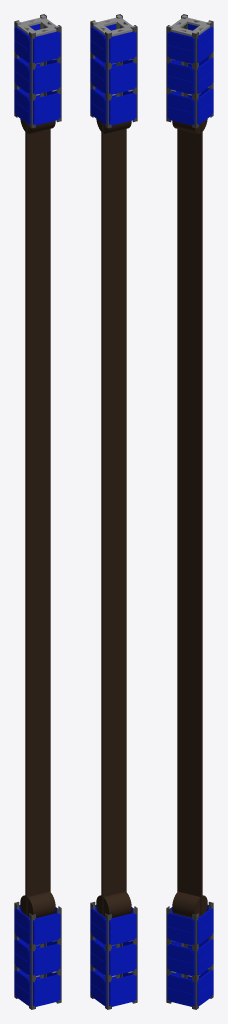
Rendered from saildummyv2.glb.
The picture shows the model from 3 angles, left to right: view 1: azimuth 30°, elevation 25°; view 2: azimuth 210°, elevation 25°; view 3: azimuth 330°, elevation 25°; orthographic projection.
Parts seen in each view (by area): view 1: Cylinder, Cube.001, Cube.002, Cube, Cube.009, Cube.003; view 2: Cylinder, Cube.001, Cube.002, Cube, Cube.009, Cube.003; view 3: Cylinder, Cube.001, Cube.002, Cube, Cube.009, Cube.003.
Part boxes in pixels (x1,y1,x2,y2): Cylinder: [20, 119, 55, 917]; Cube.001: [14, 24, 60, 125]; Cube.002: [14, 905, 60, 1006]; Cube: [14, 14, 61, 128]; Cube.009: [14, 901, 61, 1009]; Cube.003: [16, 15, 59, 36]; Cylinder: [96, 119, 131, 917]; Cube.001: [90, 24, 136, 125]; Cube.002: [90, 905, 136, 1006]; Cube: [90, 14, 137, 128]; Cube.009: [90, 901, 137, 1009]; Cube.003: [92, 15, 135, 36]; Cylinder: [172, 119, 207, 917]; Cube.001: [167, 24, 213, 125]; Cube.002: [167, 905, 213, 1006]; Cube: [166, 14, 213, 128]; Cube.009: [166, 901, 213, 1009]; Cube.003: [168, 15, 211, 36].
Bounding box in the file's own units: 1.07 × 31 × 1.07.
